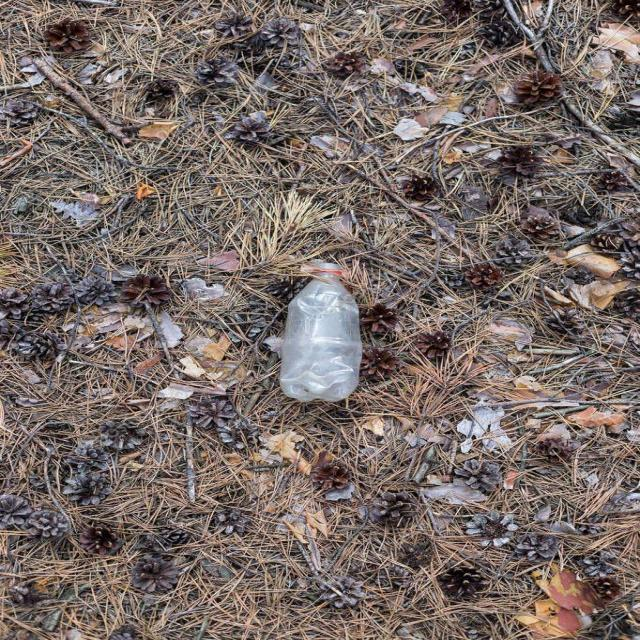bottle: (230, 254, 398, 426)
